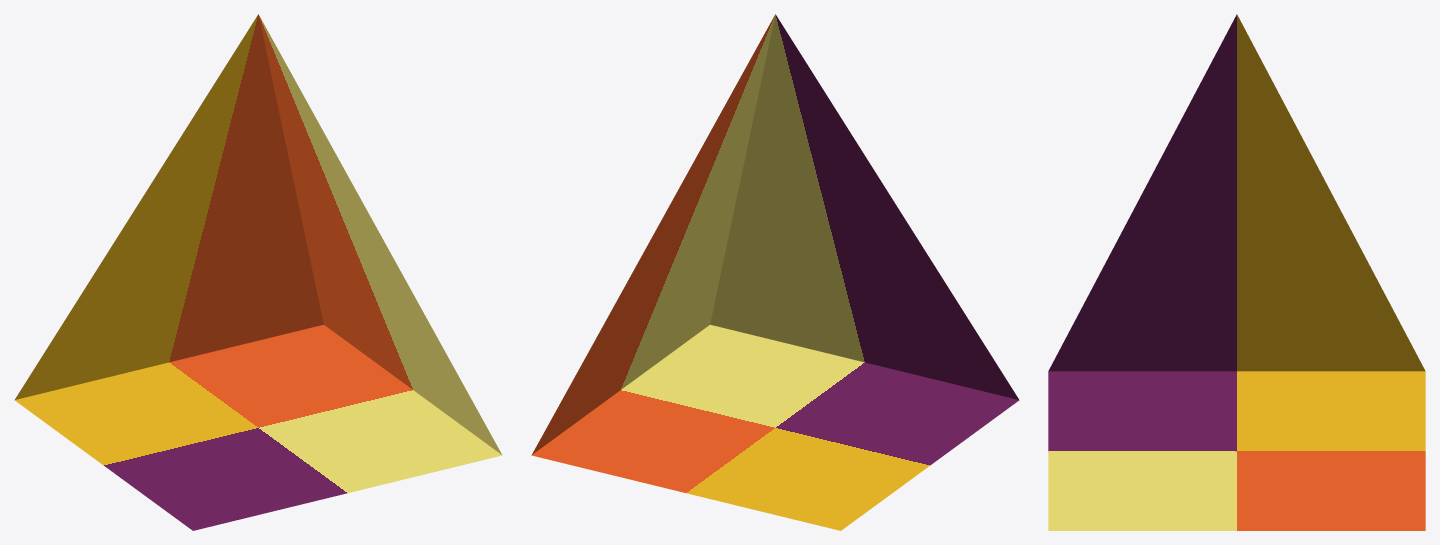
The model's file is demo-marker-lod1.glb.
The picture shows the model from 3 angles, left to right: view 1: azimuth 30°, elevation 25°; view 2: azimuth 150°, elevation 25°; view 3: azimuth 270°, elevation 25°; orthographic projection. The views are drawn at different scales.
Visible parts, largest first — view 1: Orbix LOD 1 marker; view 2: Orbix LOD 1 marker; view 3: Orbix LOD 1 marker.
Boxes of the visible parts, x1,y1,x2,y2 form: Orbix LOD 1 marker: (14,14,502,530); Orbix LOD 1 marker: (531,14,1019,530); Orbix LOD 1 marker: (1048,14,1425,530).
Size of the model in its own units: 0.9 by 1.15 by 0.9.
Materials: 1 (1 with a texture image).
